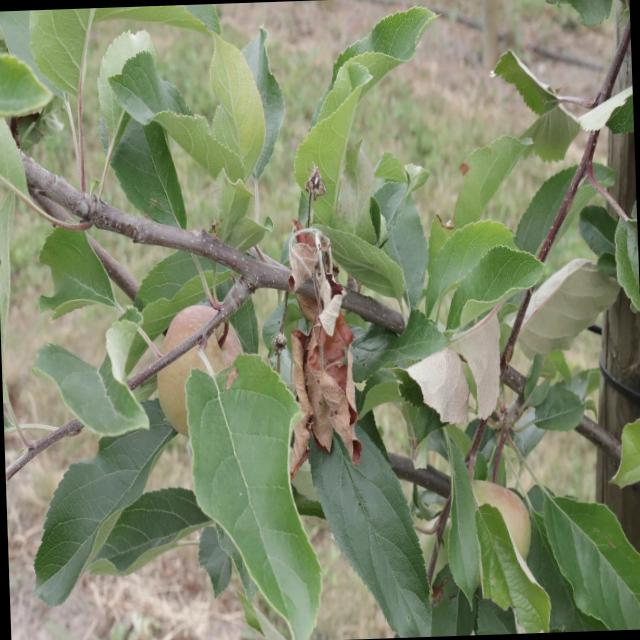-FireBlight-: (284, 226, 366, 474)
